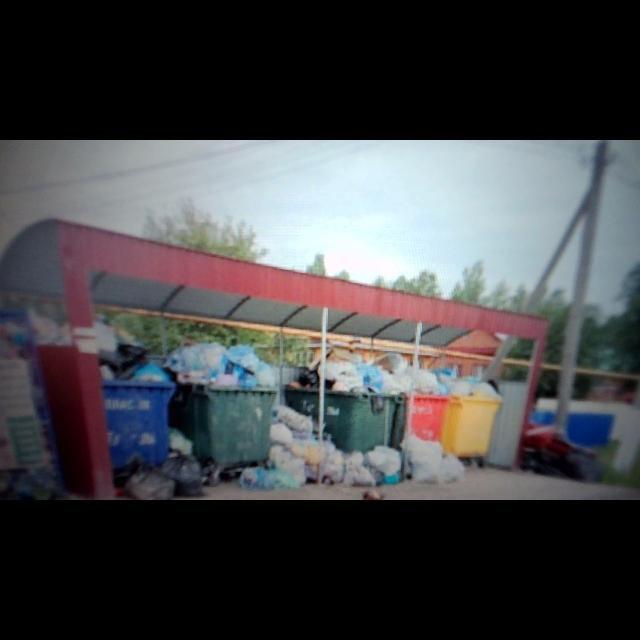Trash_Can_Full: (163, 341, 277, 469), (94, 316, 176, 468), (284, 358, 399, 451), (441, 375, 501, 457), (398, 356, 449, 446)
